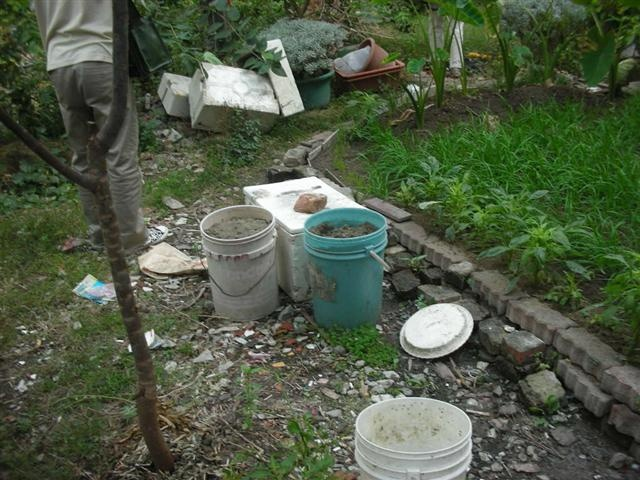box: (332, 59, 407, 98)
bucket: (353, 394, 474, 480), (198, 203, 279, 322)
plate: (398, 303, 475, 359)
styrofoam: (241, 173, 370, 303), (186, 61, 282, 134), (259, 38, 306, 118)
